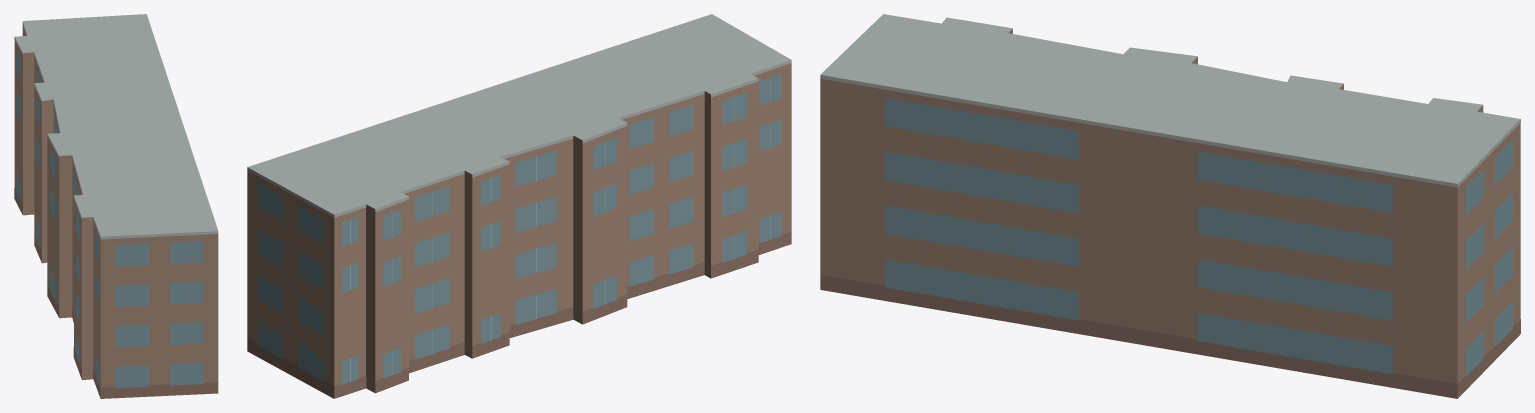
The model's file is survey-upis-32682606.glb.
3 views of the same model, side by side, from view 1: azimuth 30°, elevation 25°; view 2: azimuth 150°, elevation 25°; view 3: azimuth 270°, elevation 25° (orthographic). The views are drawn at different scales.
Parts seen in each view (by area): view 1: survey-upis-32682606.tmp; view 2: survey-upis-32682606.tmp; view 3: survey-upis-32682606.tmp.
Boxes of the visible parts, left/top/right/bottom form: survey-upis-32682606.tmp: left=14, top=14, right=218, bottom=398; survey-upis-32682606.tmp: left=247, top=14, right=791, bottom=398; survey-upis-32682606.tmp: left=820, top=14, right=1520, bottom=398.
Bounding box in the file's own units: 24.07 × 14.2 × 41.94.
